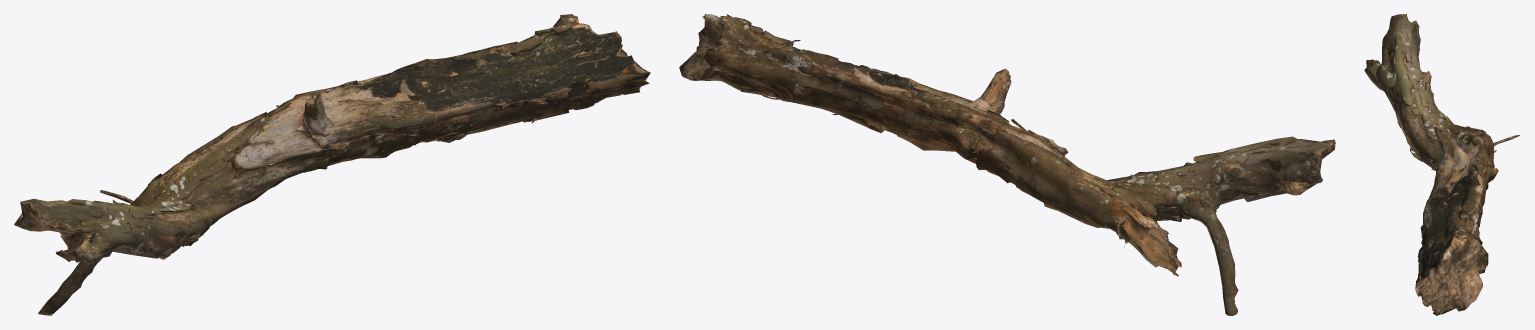
The model's file is dead_tree_trunk_02_1k.gltf.
The picture shows the model from 3 angles, left to right: view 1: azimuth 30°, elevation 25°; view 2: azimuth 150°, elevation 25°; view 3: azimuth 270°, elevation 25°; orthographic projection. The views are drawn at different scales.
Visible parts, largest first — view 1: dead_tree_trunk_02; view 2: dead_tree_trunk_02; view 3: dead_tree_trunk_02.
Part boxes in pixels (left/top/right/bottom): dead_tree_trunk_02: left=14, top=14, right=650, bottom=315; dead_tree_trunk_02: left=679, top=14, right=1335, bottom=315; dead_tree_trunk_02: left=1364, top=14, right=1519, bottom=315.
Bounding box in the file's own units: 4.05 × 1.06 × 1.05.
Materials: 1 (1 with a texture image).
